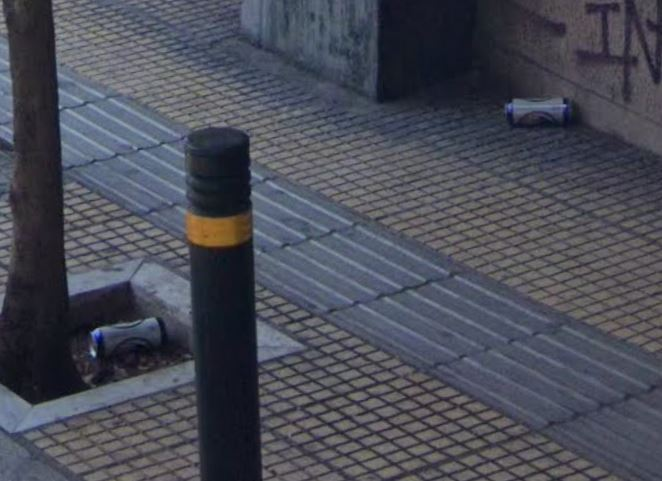trash: (77, 311, 181, 363), (500, 88, 576, 131)
